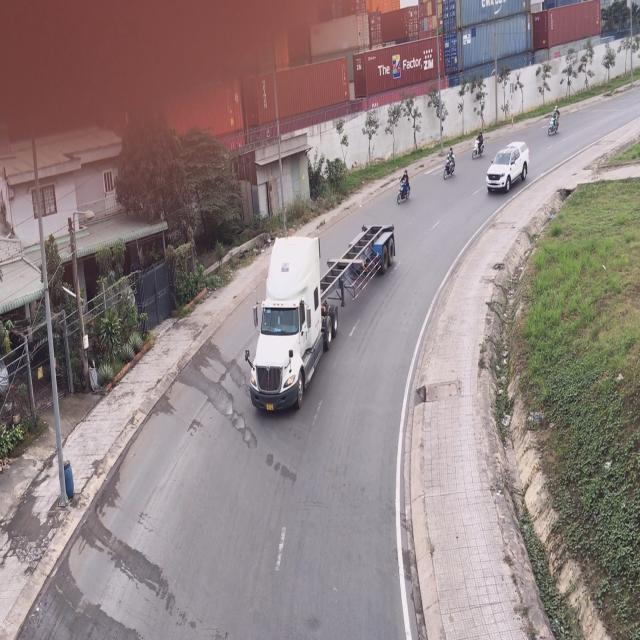car: (486, 142, 528, 196)
motorbike: (396, 168, 411, 206), (548, 100, 561, 137), (445, 146, 457, 181), (470, 132, 484, 158)
truck: (250, 219, 396, 415)
